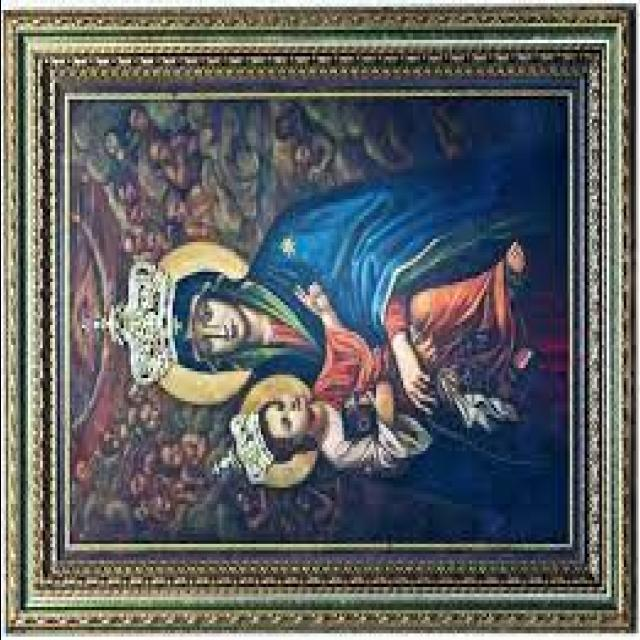mother of god: (147, 169, 534, 486)
